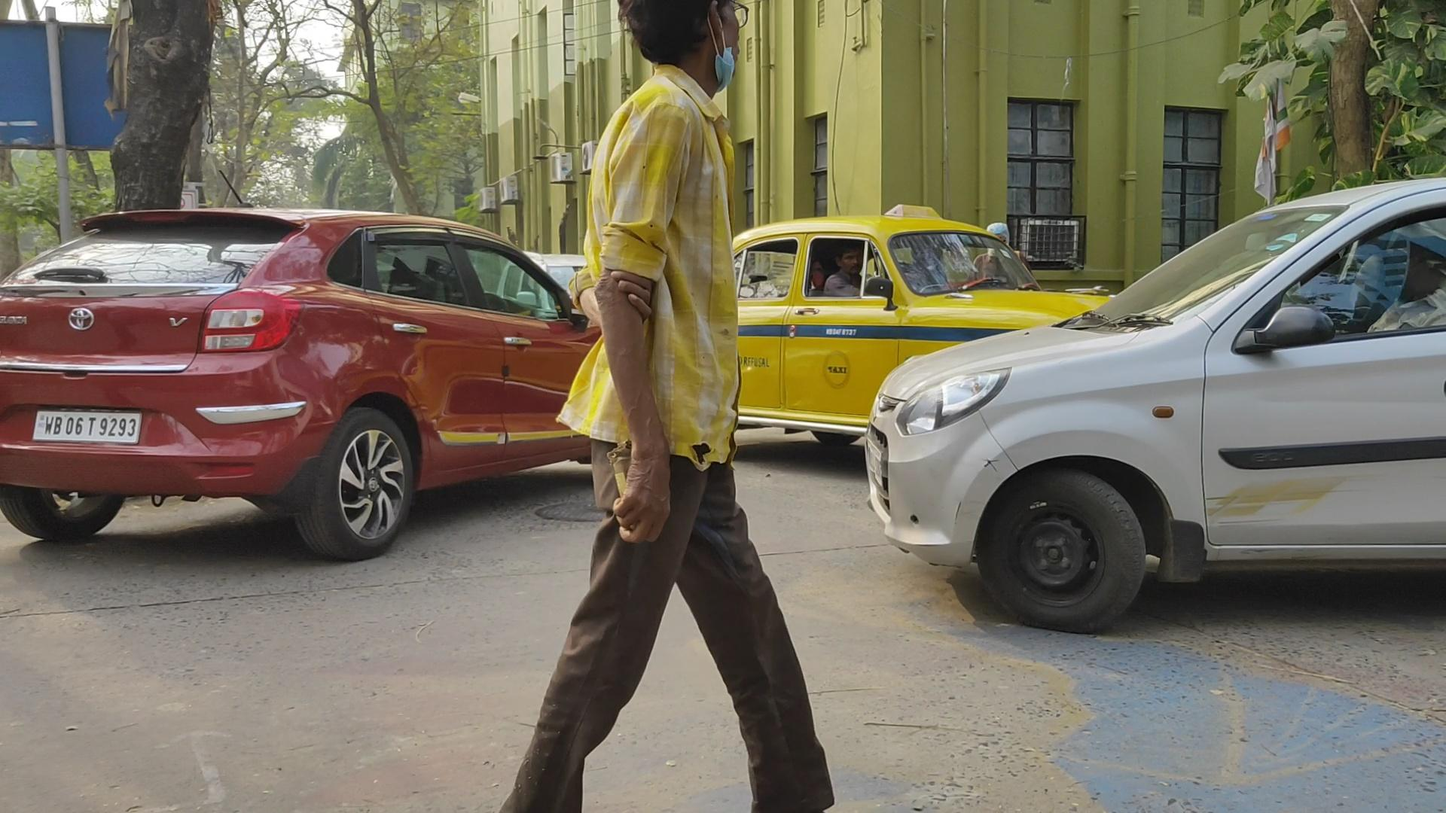car: (863, 175, 1446, 635), (5, 209, 627, 565), (596, 203, 1129, 487)
